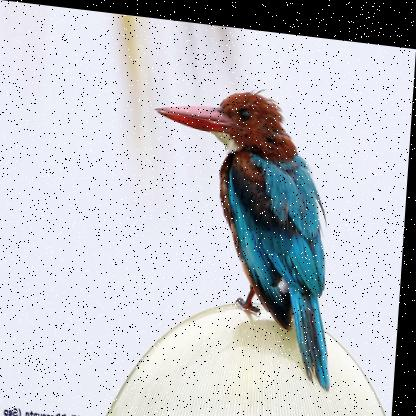Burung: (145, 79, 349, 382)
